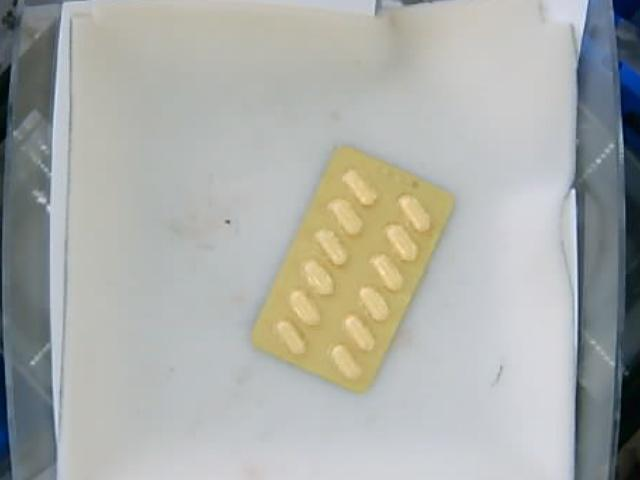Medicine: (254, 145, 453, 395)
